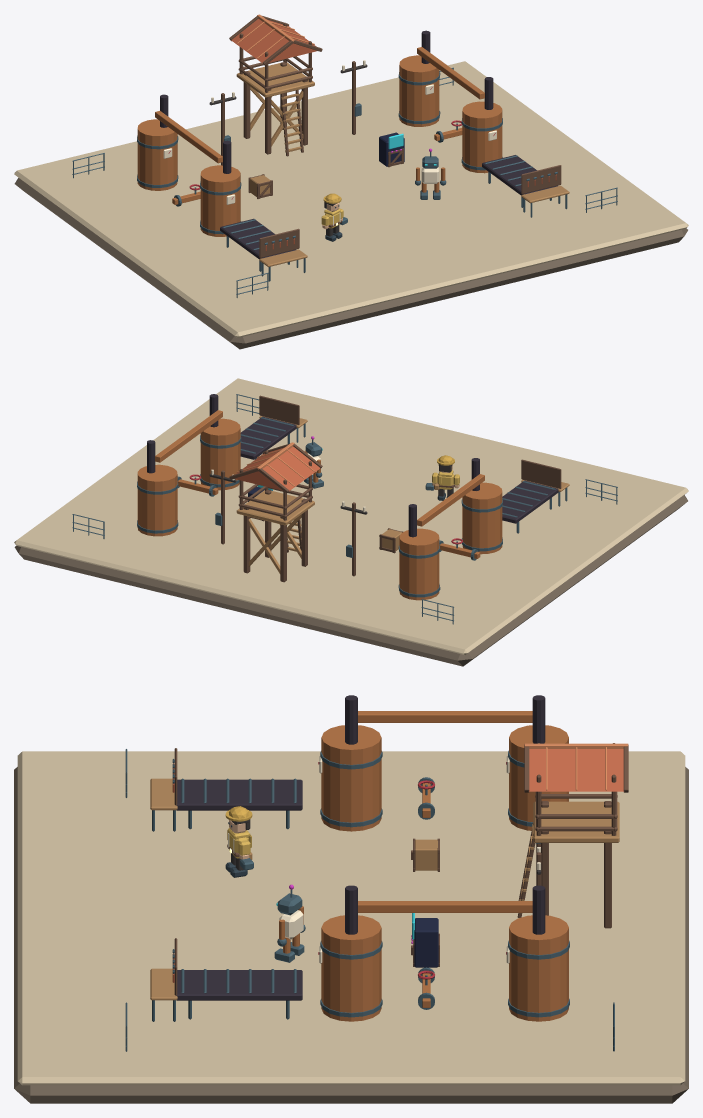
File: world-steampunk.glb
3 renders of one model, top to bottom at view 1: azimuth 30°, elevation 25°; view 2: azimuth 150°, elevation 25°; view 3: azimuth 270°, elevation 25°, orthographic. The views are drawn at different scales.
Visible parts, largest first — view 1: terrain-top, terrain-stratum, boiler.002, boiler.004, boiler.003, boiler.001, tower-canopy.001, tower-deck.001, conveyor-belt.001, conveyor-belt.002, pegboard.002, pegboard.001 (+2 smaller); view 2: terrain-top, terrain-stratum, boiler.004, boiler.002, boiler.001, boiler.003, tower-canopy.001, conveyor-belt.001, conveyor-belt.002, tower-deck.001, pegboard.001, pegboard.002 (+2 smaller); view 3: terrain-top, terrain-stratum, boiler.001, boiler.003, boiler.004, tower-canopy.001, conveyor-belt.001, conveyor-belt.002, tower-deck.001, boiler.002, overhead-pipe, overhead-pipe.001 (+9 smaller).
Part boxes in pixels (bbox=[...]): terrain-top: bbox=[14, 61, 688, 337]; terrain-stratum: bbox=[14, 178, 687, 349]; boiler.002: bbox=[137, 119, 177, 190]; boiler.004: bbox=[399, 55, 439, 126]; boiler.003: bbox=[462, 101, 502, 173]; boiler.001: bbox=[200, 165, 240, 236]; tower-canopy.001: bbox=[231, 19, 316, 63]; tower-deck.001: bbox=[236, 62, 314, 97]; conveyor-belt.001: bbox=[220, 218, 296, 259]; conveyor-belt.002: bbox=[482, 155, 557, 195]; pegboard.002: bbox=[521, 165, 561, 194]; pegboard.001: bbox=[259, 228, 299, 258]; terrain-top: bbox=[14, 378, 688, 654]; terrain-stratum: bbox=[14, 495, 687, 666]; boiler.004: bbox=[137, 464, 177, 536]; boiler.002: bbox=[399, 528, 439, 600]; boiler.001: bbox=[462, 482, 502, 554]; boiler.003: bbox=[200, 418, 240, 490]; tower-canopy.001: bbox=[234, 446, 320, 490]; conveyor-belt.001: bbox=[502, 480, 558, 523]; conveyor-belt.002: bbox=[240, 416, 296, 459]; tower-deck.001: bbox=[236, 490, 314, 525]; pegboard.001: bbox=[521, 459, 561, 488]; pegboard.002: bbox=[259, 395, 299, 424]; terrain-top: bbox=[17, 751, 685, 1085]; terrain-stratum: bbox=[14, 767, 688, 1103]; boiler.001: bbox=[321, 725, 381, 831]; boiler.003: bbox=[321, 915, 381, 1021]; boiler.004: bbox=[509, 915, 568, 1021]; tower-canopy.001: bbox=[529, 749, 623, 791]; conveyor-belt.001: bbox=[176, 779, 302, 810]; conveyor-belt.002: bbox=[176, 970, 302, 1000]; tower-deck.001: bbox=[533, 801, 619, 842]; boiler.002: bbox=[509, 725, 568, 830]; overhead-pipe: bbox=[358, 711, 532, 722]; overhead-pipe.001: bbox=[358, 901, 532, 912].
Bounding box in the file's own units: 21 × 5.88 × 18.
